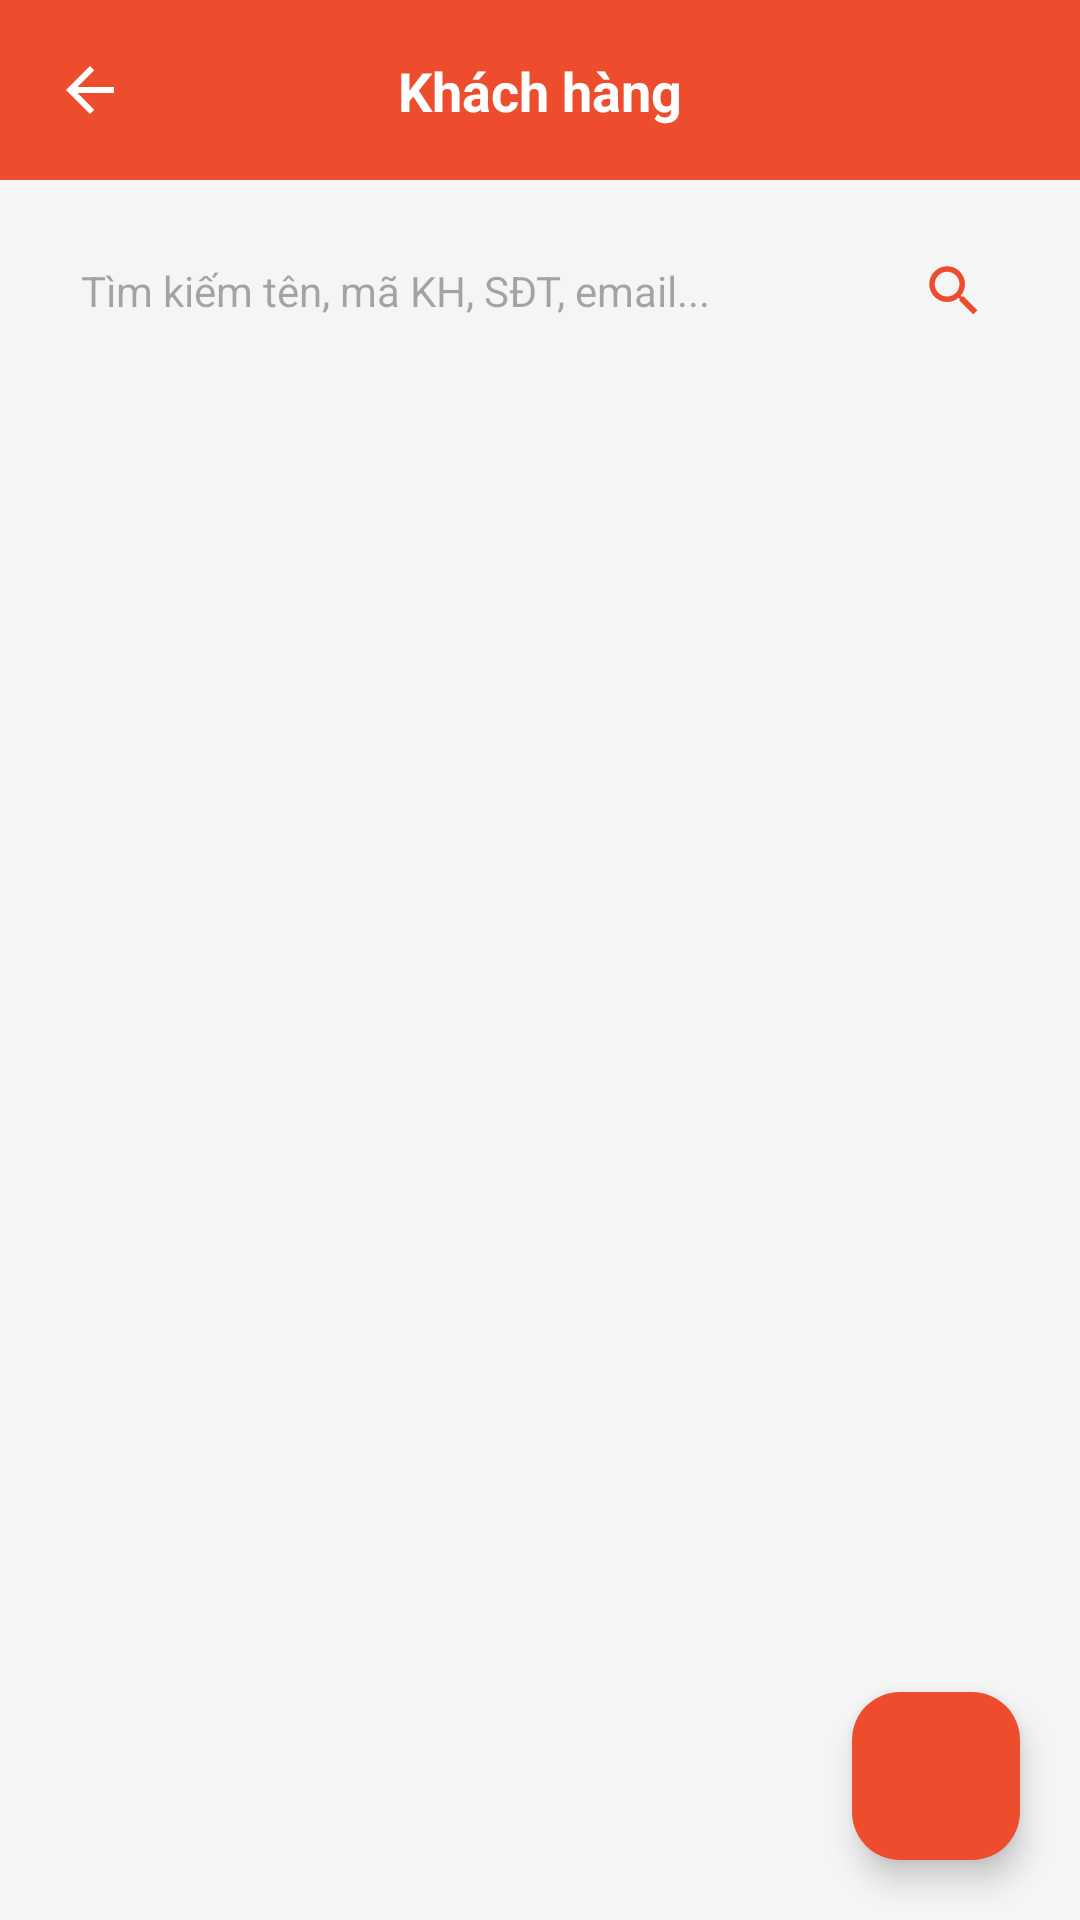

Screen size 1080w x 1920h. Icon name, then its box in pixels as (x1, y1, x2, y2):
back: (66, 66, 114, 114)
search: (929, 266, 978, 315)
